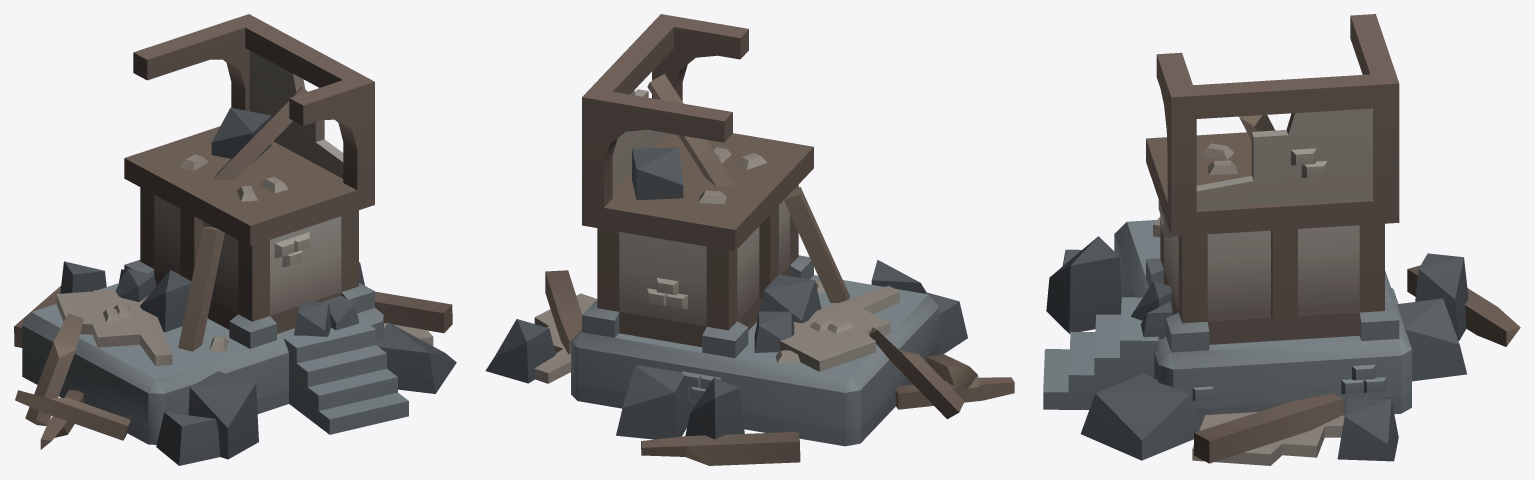
File: kaykit-medieval-hexagon-pack-building-destroyed.glb
3 views of the same model, side by side, from view 1: azimuth 30°, elevation 25°; view 2: azimuth 150°, elevation 25°; view 3: azimuth 270°, elevation 25° (orthographic). The views are drawn at different scales.
Visible parts, largest first — view 1: building_destroyed; view 2: building_destroyed; view 3: building_destroyed.
Boxes of the visible parts, <box> form: building_destroyed: <box>14,14,456,465</box>; building_destroyed: <box>485,14,1014,465</box>; building_destroyed: <box>1043,14,1520,465</box>.
Bounding box in the file's own units: 1.54 × 0.9939 × 1.31.
1 material, 1 textured.
